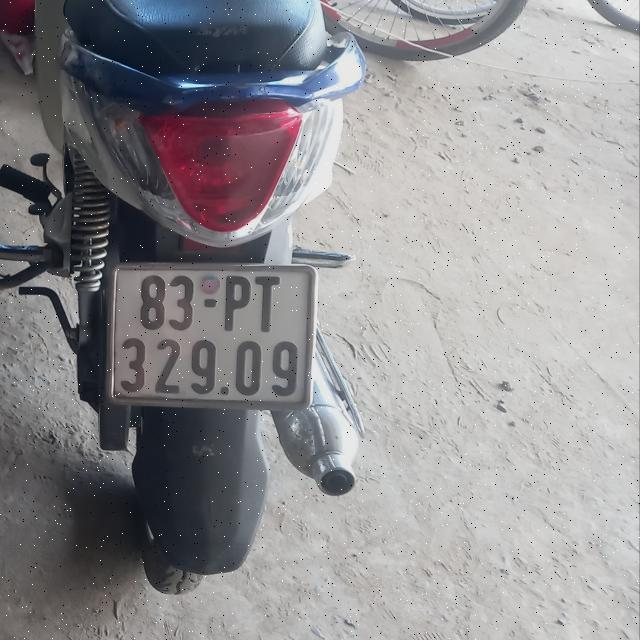0: (236, 341, 261, 396)
2: (156, 339, 180, 394)
3: (121, 338, 146, 392), (170, 275, 193, 331)
8: (140, 274, 168, 329)
9: (271, 340, 298, 397), (190, 339, 216, 395)
P: (222, 274, 250, 332)
T: (254, 276, 280, 332)
